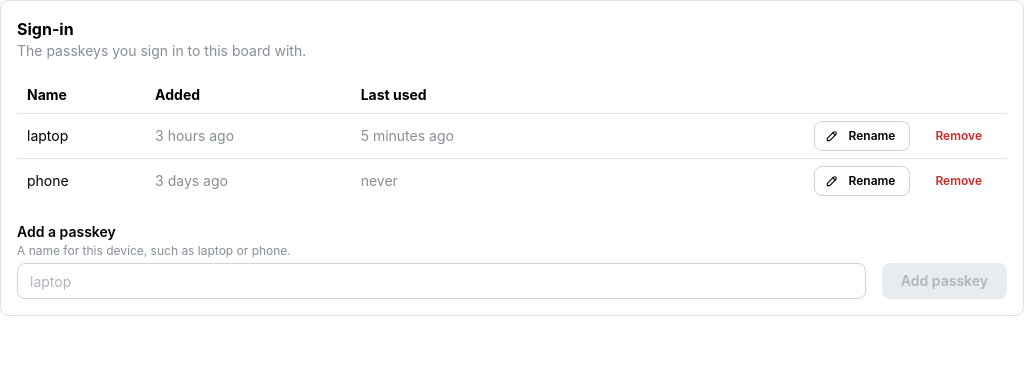
the passkeys section › says a cancelled prompt was cancelled and registers nothing
In the field labelled "Add a passkey": (441, 281) [17,263,866,299], type "phone"
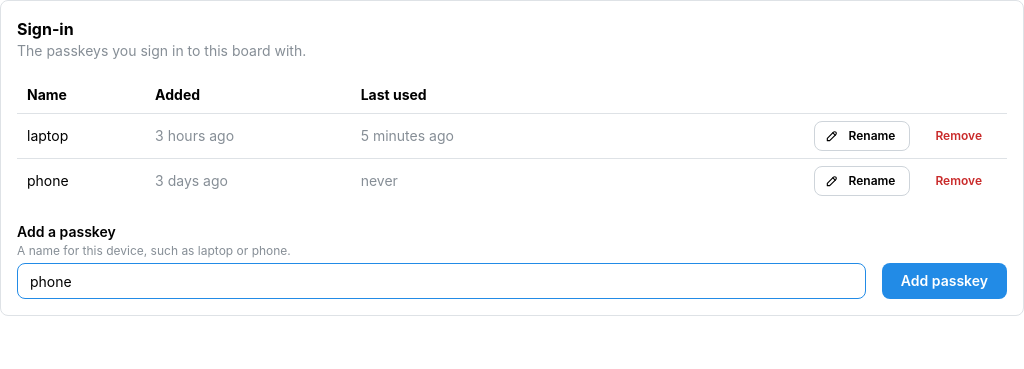
Click the button "Add passkey": (944, 281) [882,263,1007,299]
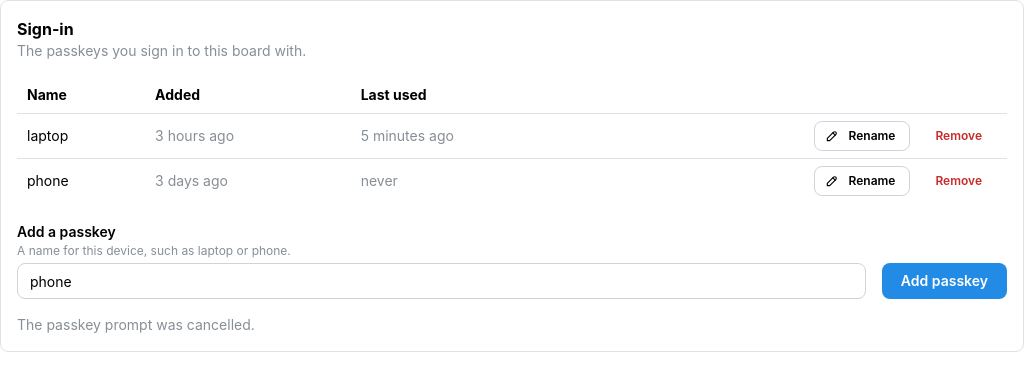
Expected: the text "The passkey prompt was cancelled." is shown, [17,316,255,333]
